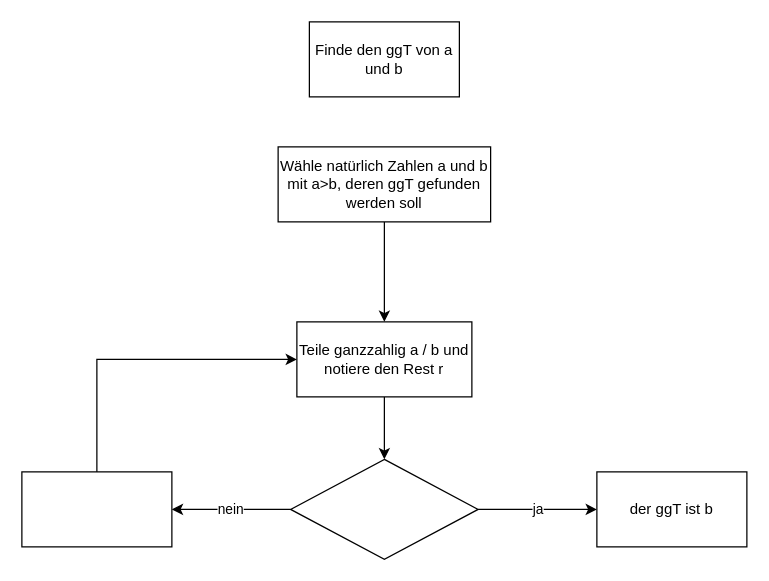
This 769x581 diagram has some shape labels left out. The shapes that lost their labels are listed below. From the top down, each one's centre as x and y in pixels, then its label:
At point (96, 509): "setze a = b setzt b = r".
At point (383, 508): "Ist der r = 0".
